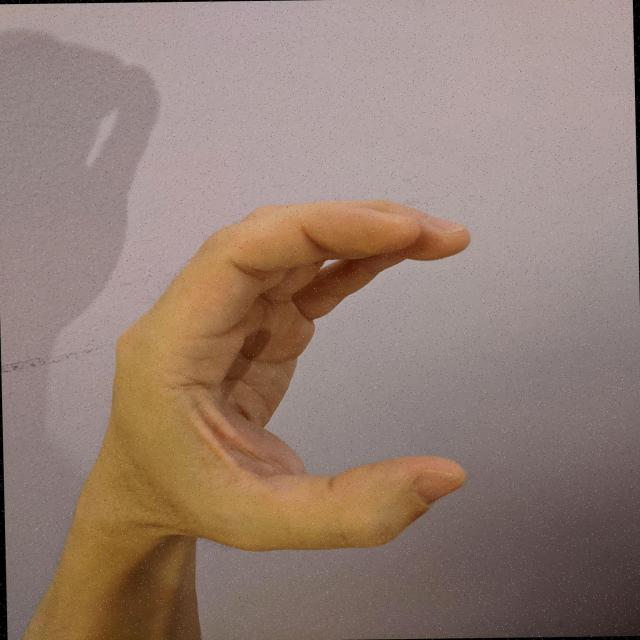C: (63, 192, 487, 561)
